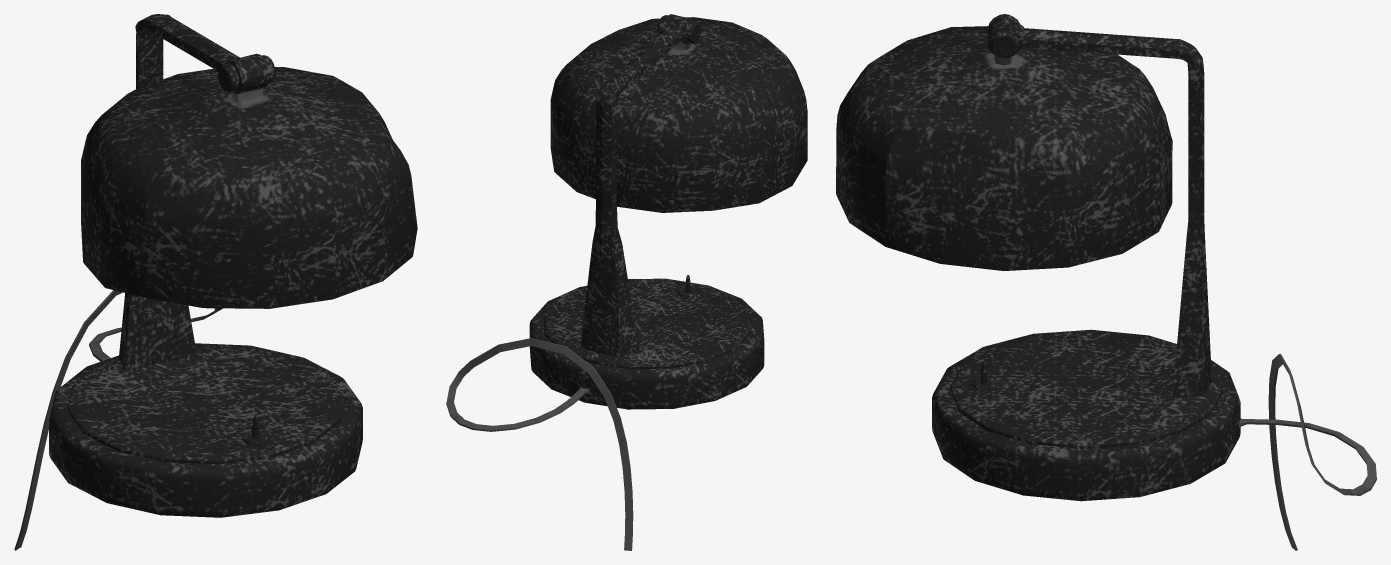
The model's file is lampara.fbx.
3 renders of one model, left to right at view 1: azimuth 30°, elevation 25°; view 2: azimuth 150°, elevation 25°; view 3: azimuth 270°, elevation 25°, orthographic. The views are drawn at different scales.
Parts seen in each view (by area): view 1: Circle; view 2: Circle; view 3: Circle.
Part boxes in pixels (<box>): Circle: <box>14,14,417,550</box>; Circle: <box>446,14,807,550</box>; Circle: <box>836,14,1376,550</box>.
Size of the model in its own units: 216 by 405 by 351.
